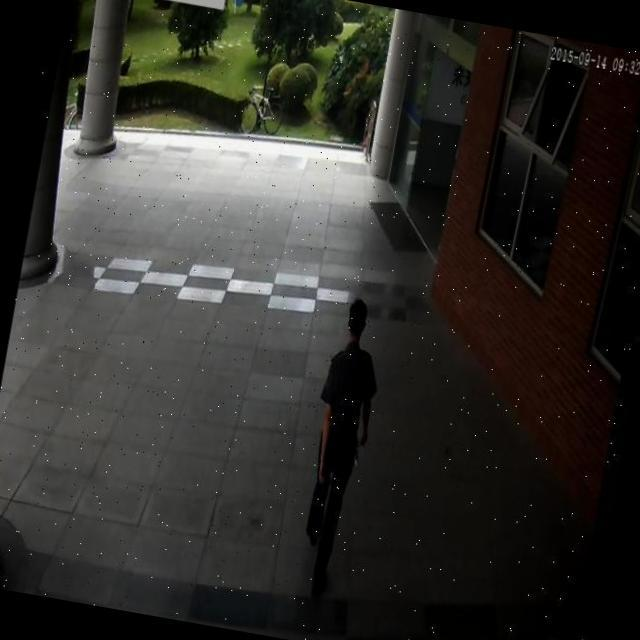person: (276, 288, 395, 604)
